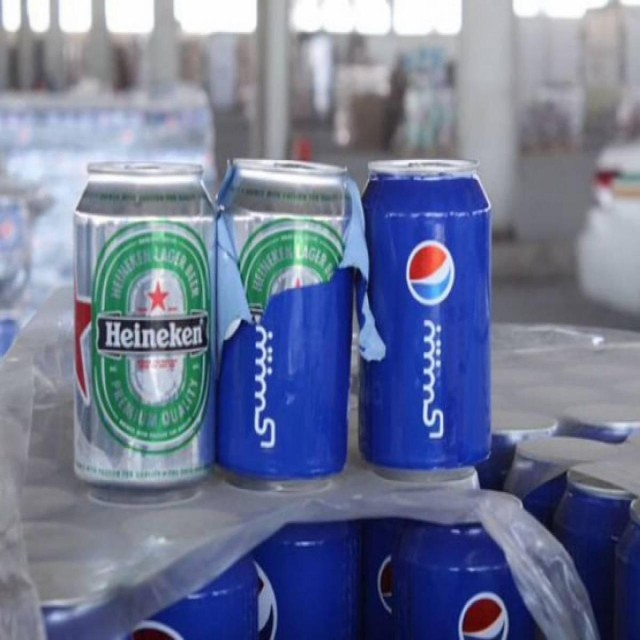pepsi: (403, 237, 460, 304), (461, 588, 510, 640)
